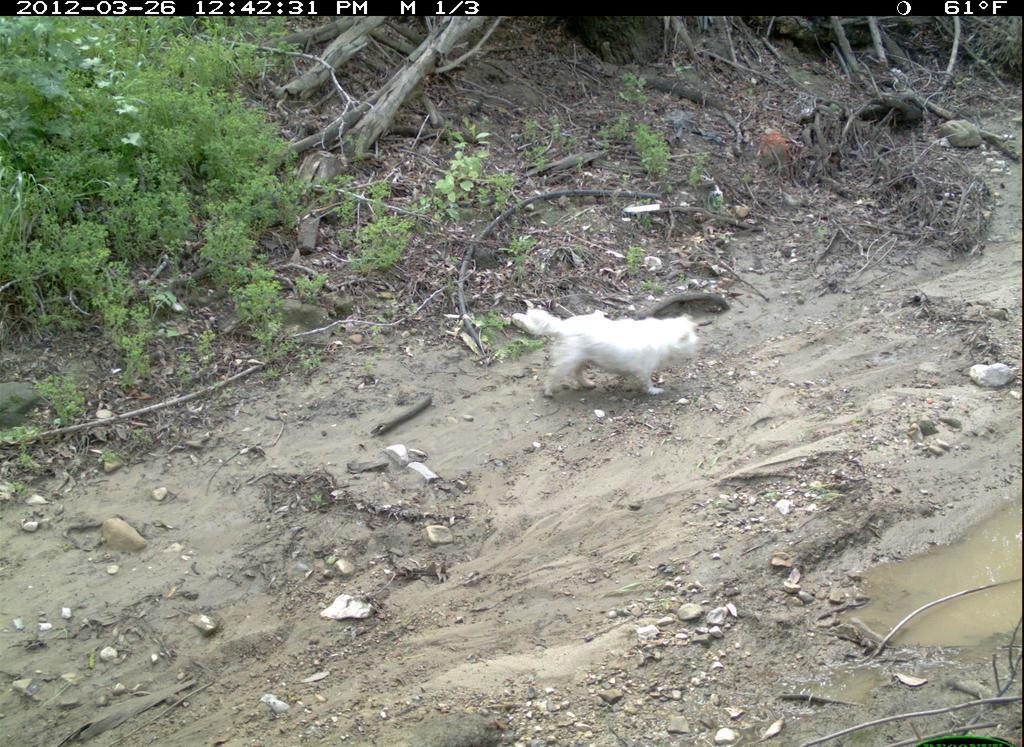dog: (513, 281, 706, 400)
